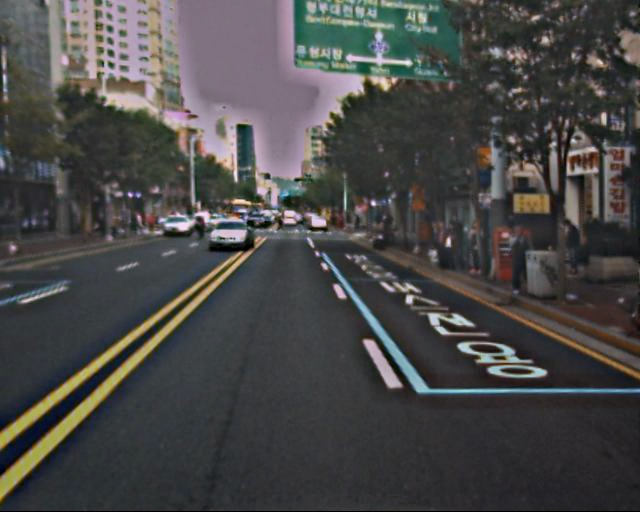person: (504, 228, 532, 296), (553, 218, 578, 279), (465, 219, 487, 272), (443, 224, 461, 269), (433, 220, 451, 264)
